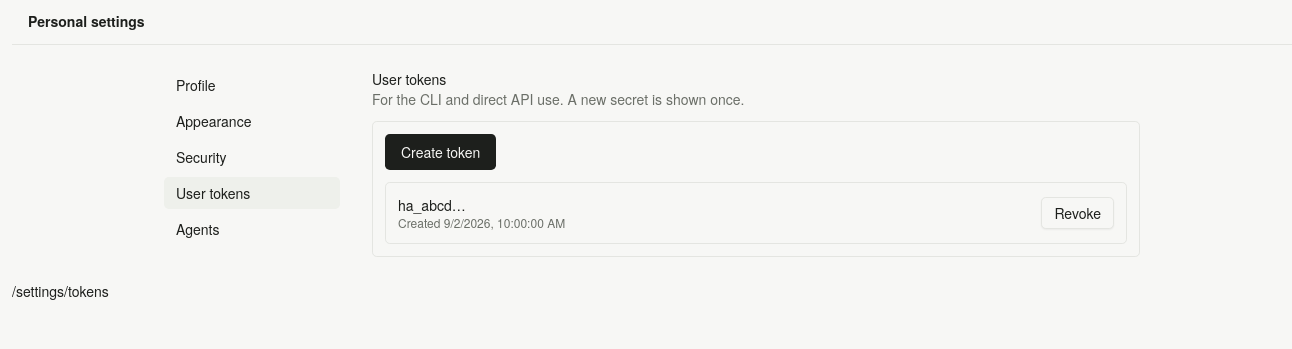
Scenario: reports a revoked token and reloads the list
Click the button "Revoke".
click(1078, 213)  # box 1041,197 -> 1114,229
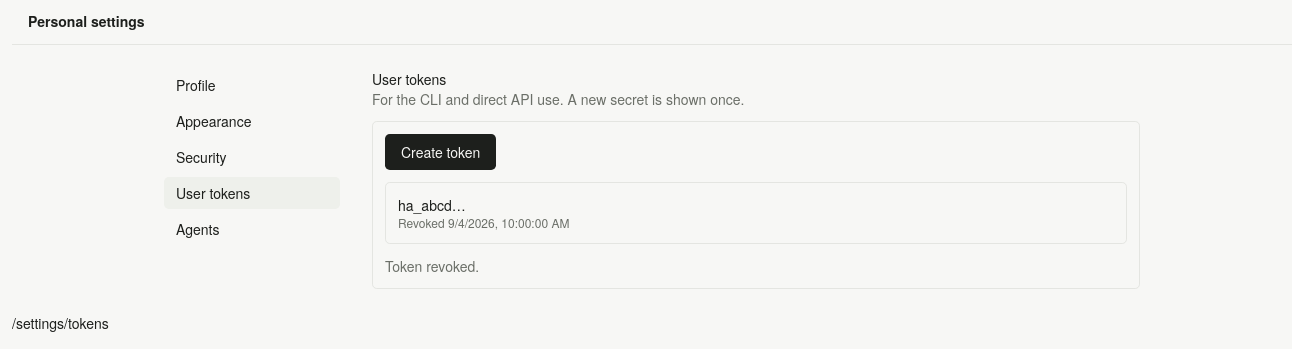
Expected: the message reads "Token revoked.", 385,256 -> 479,276
